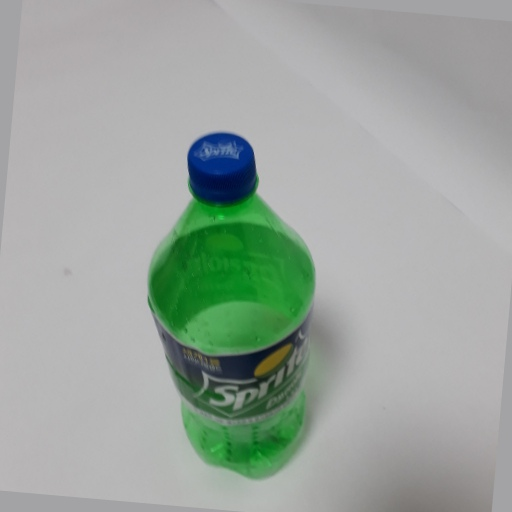Plastic_0: (141, 127, 321, 484)
